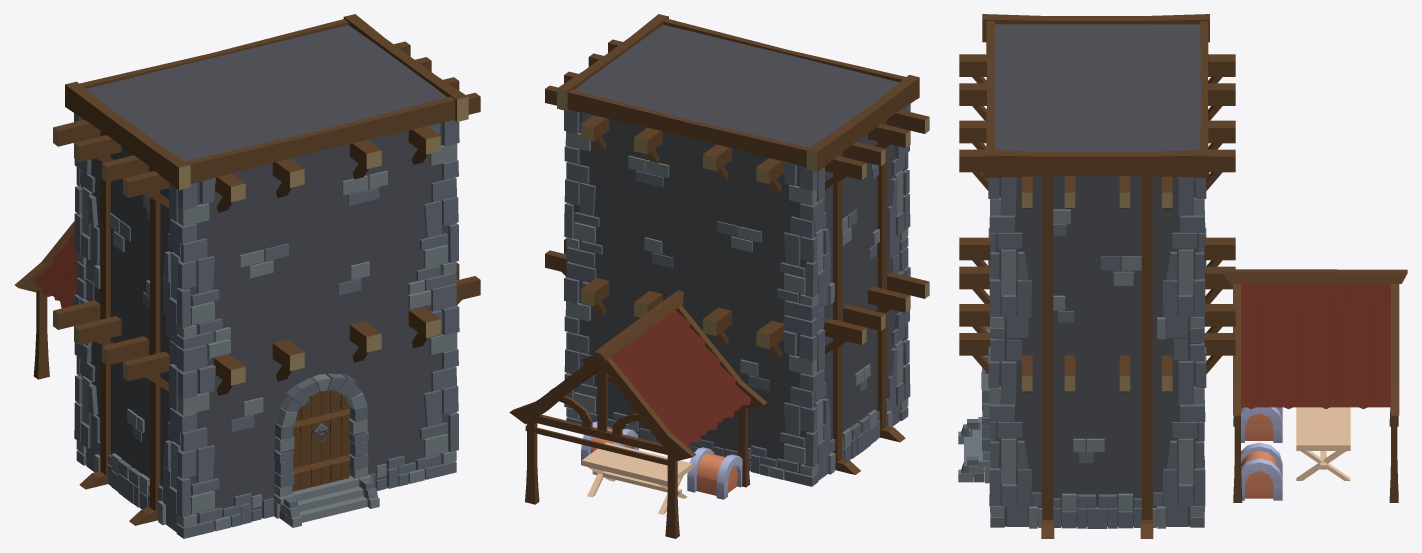
File: london_bank_1.glb
3 views of the same model, side by side, from view 1: azimuth 30°, elevation 25°; view 2: azimuth 150°, elevation 25°; view 3: azimuth 270°, elevation 25° (orthographic). The views are drawn at different scales.
Parts seen in each view (by area): view 1: House_3, Gazebo; view 2: House_3, Gazebo, tableCross(Clone), lid, chest; view 3: House_3, Gazebo, tableCross(Clone), lid (×2), chest (×2).
Part boxes in pixels (<box>): House_3: <box>53,14,480,538</box>; Gazebo: <box>14,221,78,379</box>; House_3: <box>545,14,929,486</box>; Gazebo: <box>509,290,767,538</box>; tableCross(Clone): <box>581,442,692,514</box>; lid: <box>687,447,742,484</box>; chest: <box>687,471,742,499</box>; House_3: <box>958,14,1235,538</box>; Gazebo: <box>1222,269,1407,502</box>; tableCross(Clone): <box>1296,407,1350,480</box>; lid (×2): <box>1241,407,1282,483</box>; chest (×2): <box>1241,410,1282,500</box>.
Bounding box in the file's own units: 14.33 × 14.62 × 15.83.
10 materials, 1 textured.
